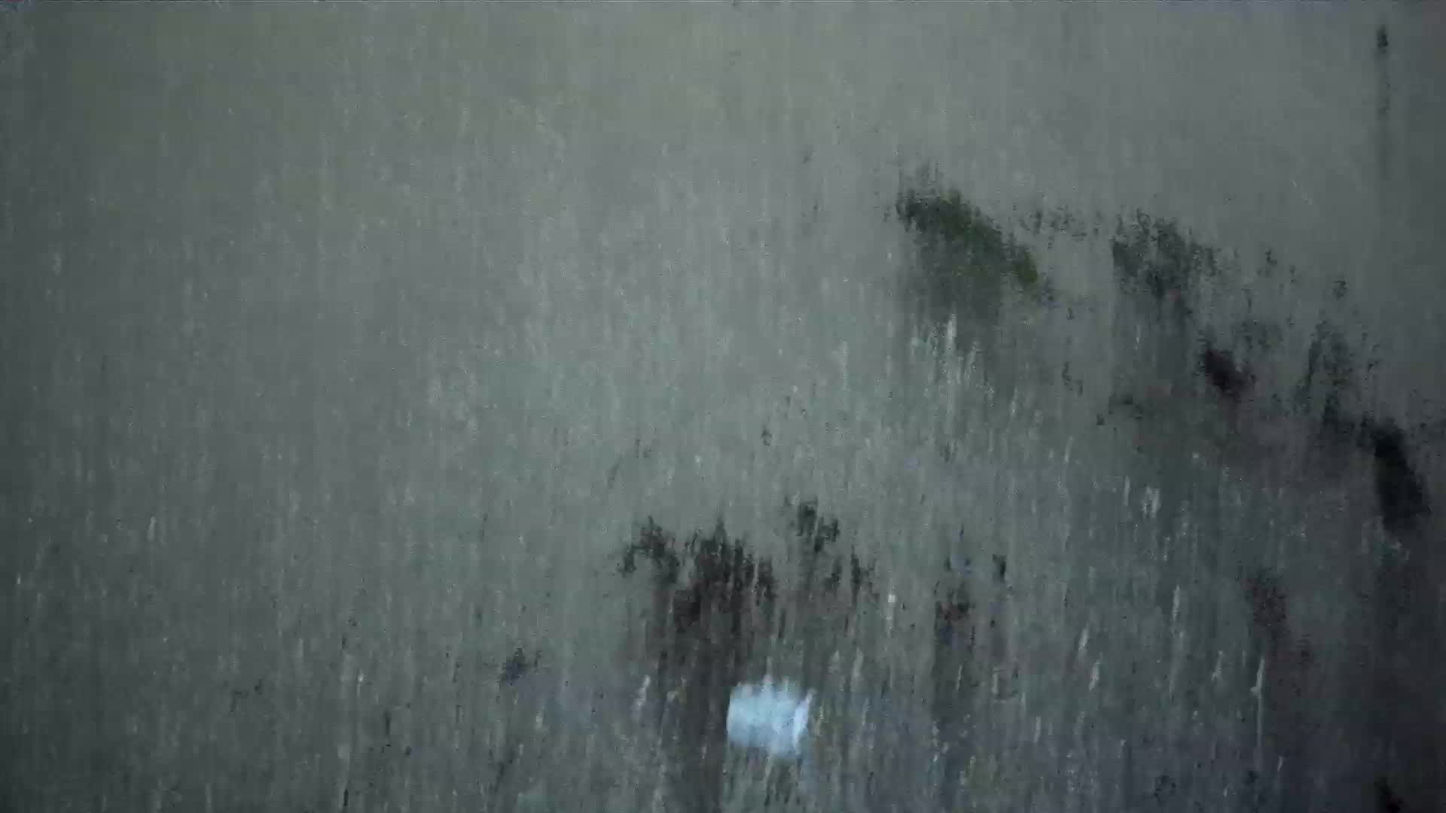Target: (725, 678, 817, 761)
